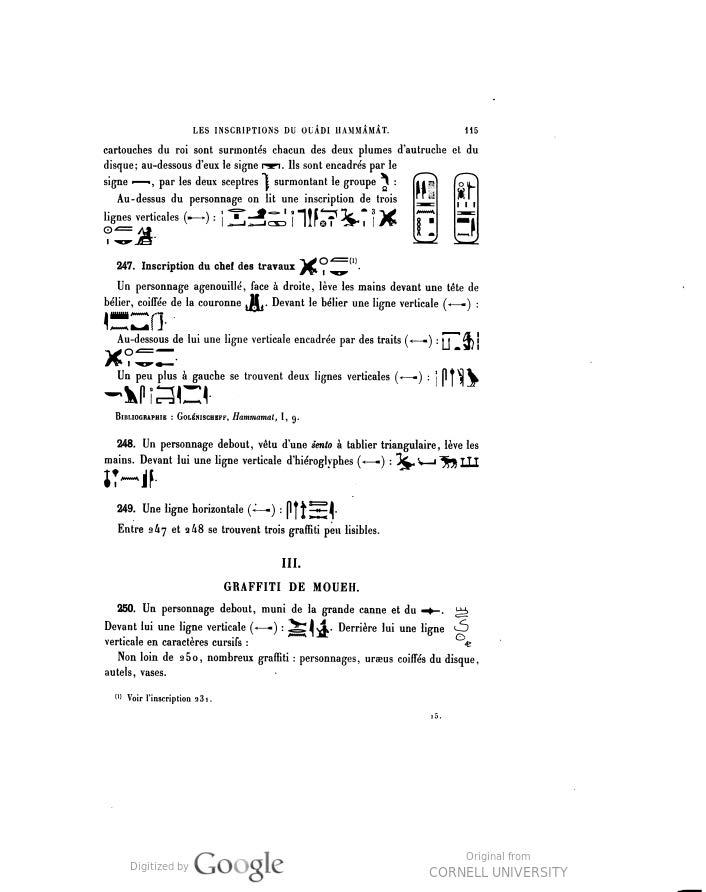circle: (406, 165, 446, 249), (449, 166, 484, 260)
